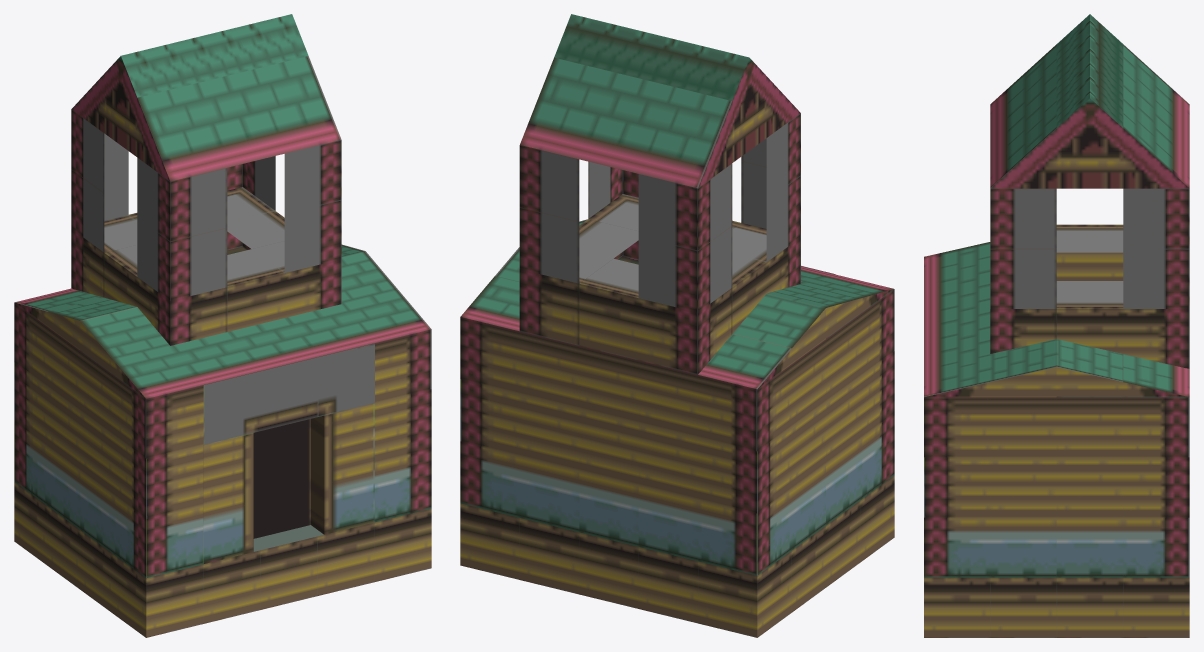
Rendered from house7.glb.
3 renders of one model, left to right at view 1: azimuth 30°, elevation 25°; view 2: azimuth 150°, elevation 25°; view 3: azimuth 270°, elevation 25°, orthographic. The views are drawn at different scales.
Parts seen in each view (by area): view 1: Cube; view 2: Cube; view 3: Cube.
Part boxes in pixels (left/top/right/bottom): Cube: left=14, top=14, right=431, bottom=637; Cube: left=460, top=14, right=894, bottom=637; Cube: left=924, top=14, right=1189, bottom=637.
Size of the model in its own units: 5 by 8.5 by 4.01.
1 material, 1 textured.
